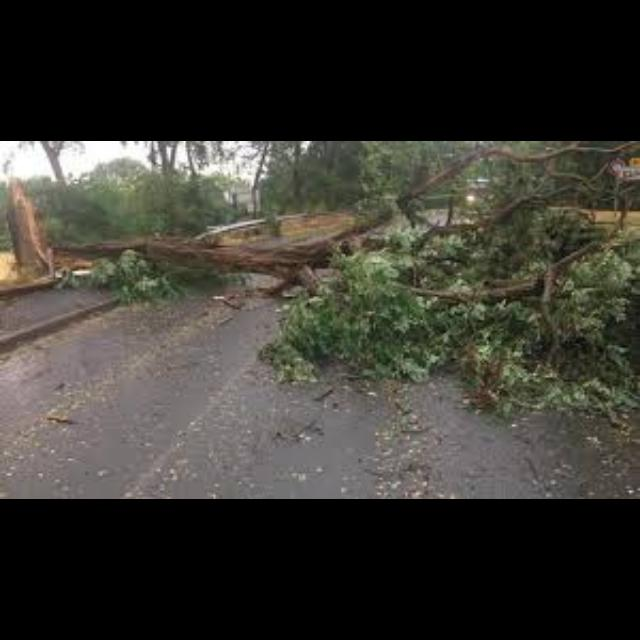Fallen Tree: (0, 200, 319, 296)
